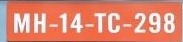character: (12, 12, 30, 33), (69, 12, 83, 34), (92, 12, 106, 34), (107, 11, 120, 33), (148, 11, 160, 34), (33, 12, 46, 33), (133, 12, 146, 33), (163, 12, 175, 33), (58, 12, 67, 34)
